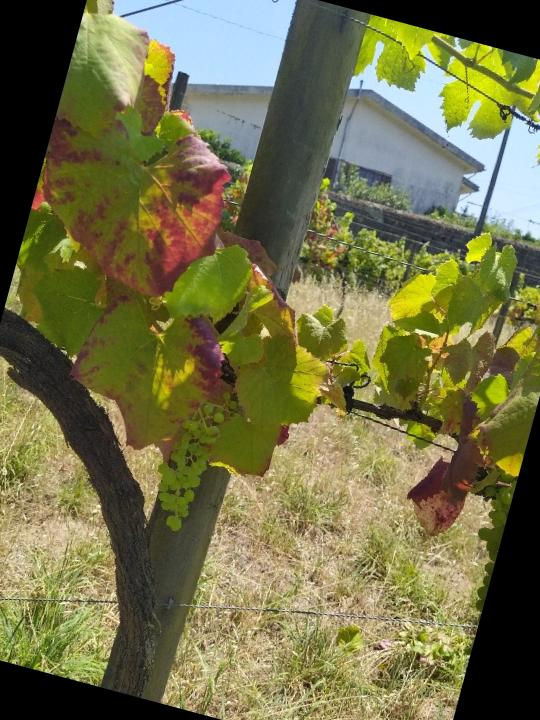grape: (141, 377, 236, 538)
